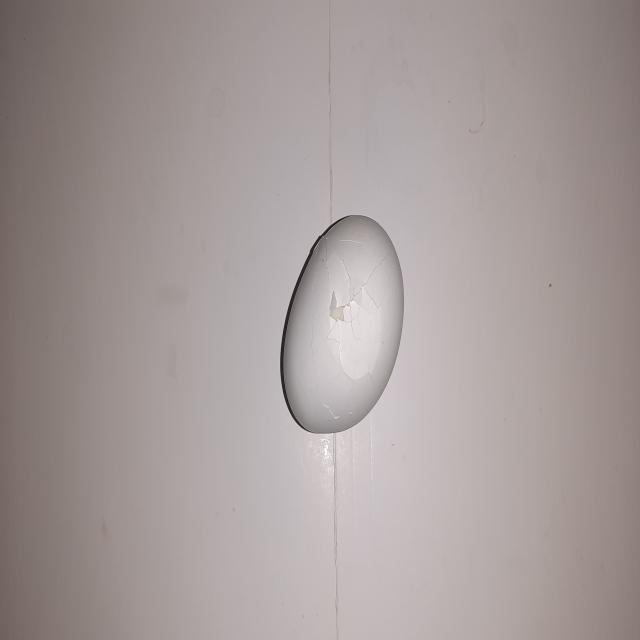egg shell: (280, 205, 406, 447)
